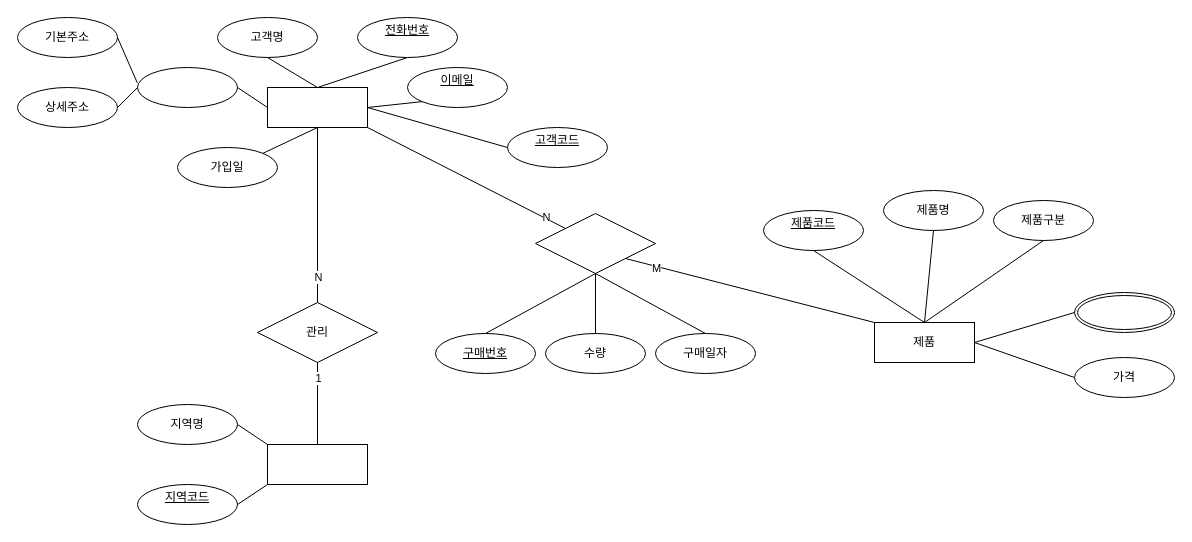
Some shapes in this 1192 by 542 pixel diagram are drawn without their labels. The centre of each missing label's shape, as x and y in pixels:
"고객" goes at [317,107].
"구매" goes at [595,243].
"제품색상" goes at [1124,312].
"주소" goes at [187,87].
"지역" goes at [317,464].
